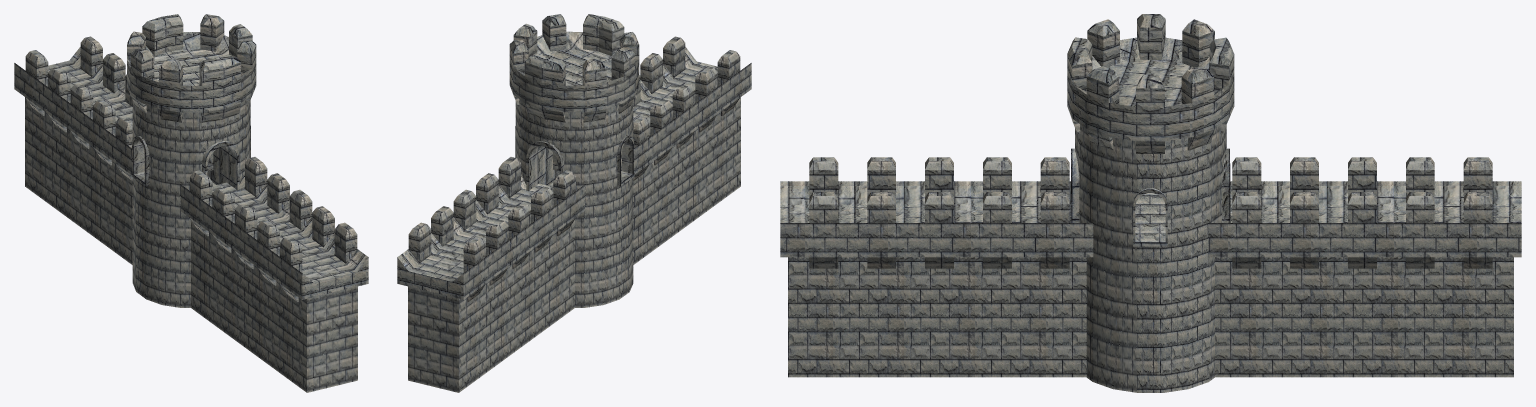
The model's file is Muralla.FBX.
The picture shows the model from 3 angles, left to right: view 1: azimuth 30°, elevation 25°; view 2: azimuth 150°, elevation 25°; view 3: azimuth 270°, elevation 25°; orthographic projection. The views are drawn at different scales.
Visible parts, largest first — view 1: Box001, Cylinder001, Box007; view 2: Box007, Cylinder001, Box001; view 3: Box007, Box001, Cylinder001.
Part boxes in pixels (x1,y1,x2,y2): Box001: (180, 157, 368, 392); Cylinder001: (127, 14, 256, 307); Box007: (14, 36, 132, 264); Box007: (397, 157, 585, 392); Cylinder001: (509, 14, 639, 307); Box001: (633, 36, 751, 264); Box007: (1208, 157, 1521, 377); Box001: (780, 157, 1093, 377); Cylinder001: (1067, 14, 1234, 392).
Bounding box in the file's own units: 108 × 229 × 489.
8 materials, 8 textured.
